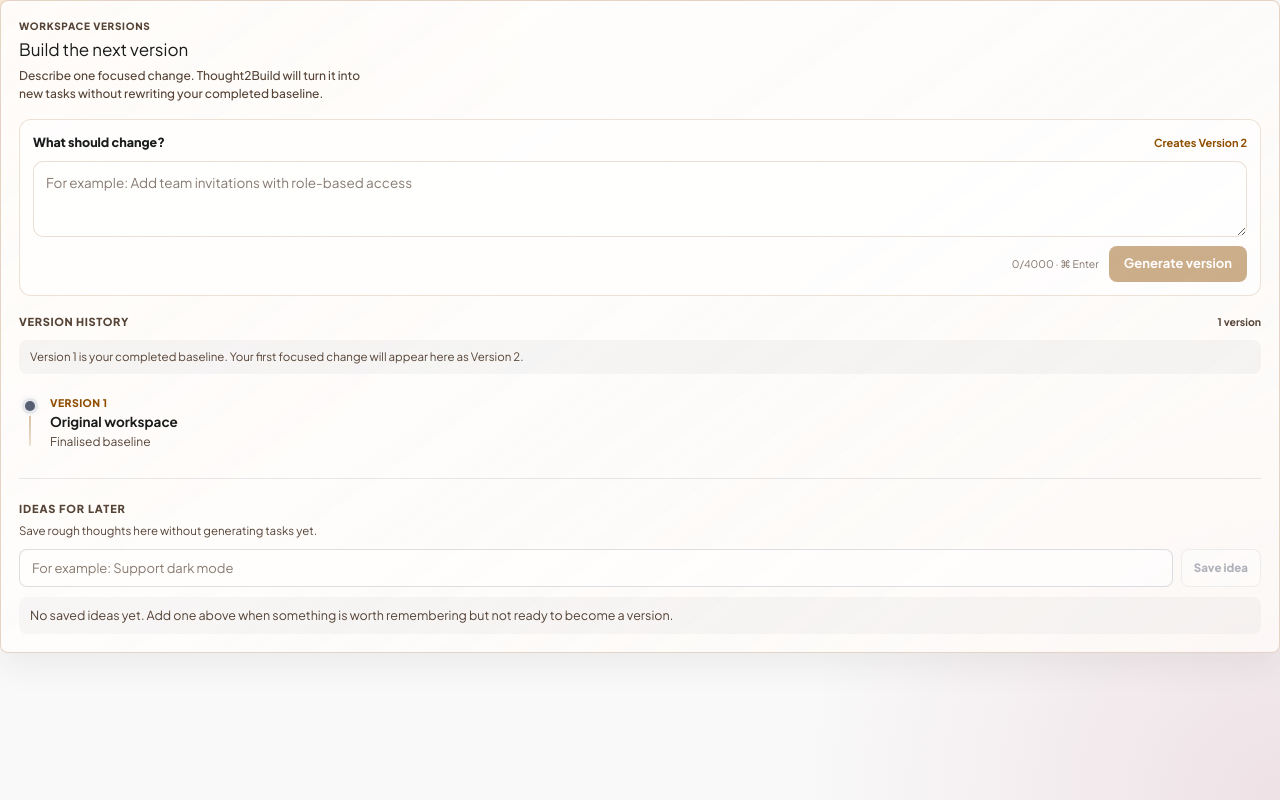
it: IncrementTimeline › explains a too-short request and keeps generation unavailable
The image size is (1280, 800).
In the text box named "what should change in the next version": (640, 199) [33,161,1247,237], type "tiny"
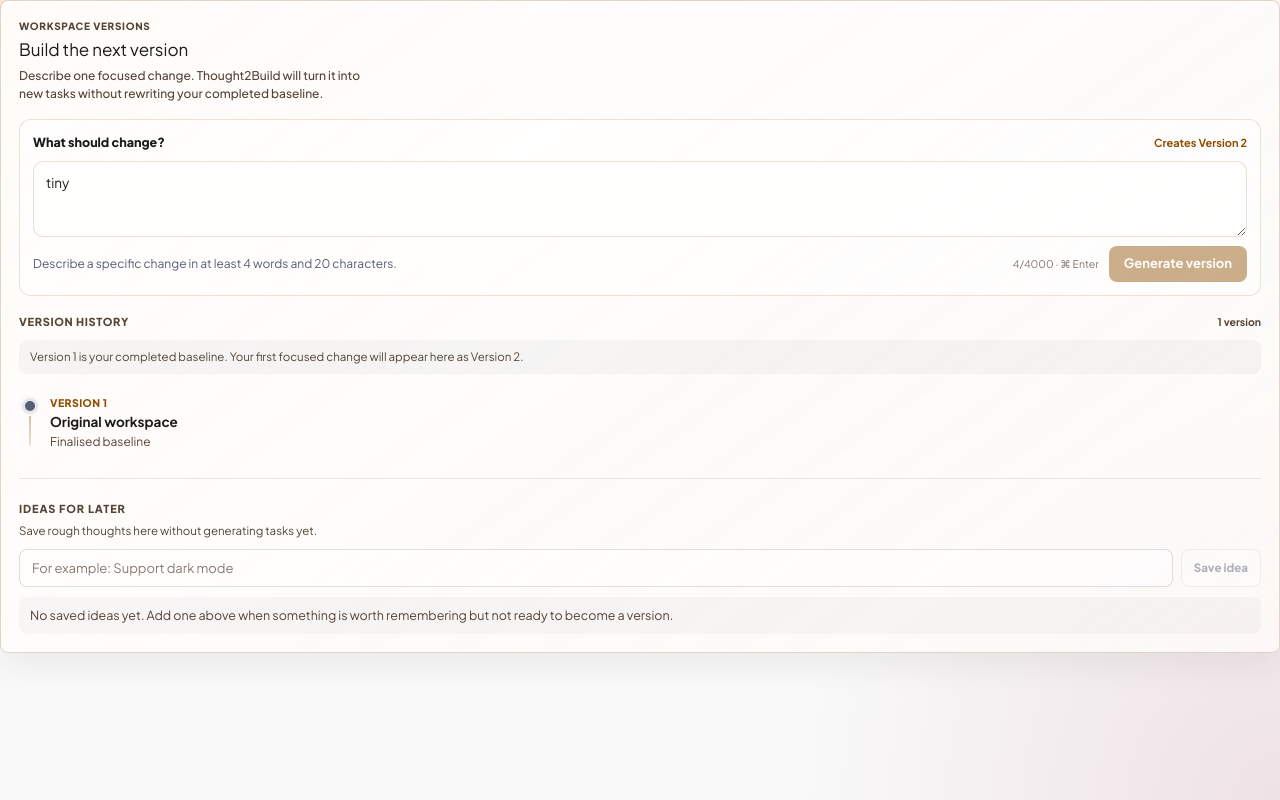
Expected: the button with aria-label "generate version 2" is disabled, [1109,246,1247,282]
Result: the text "at least 4 words and 20 characters" is shown at [33,256,397,271]
